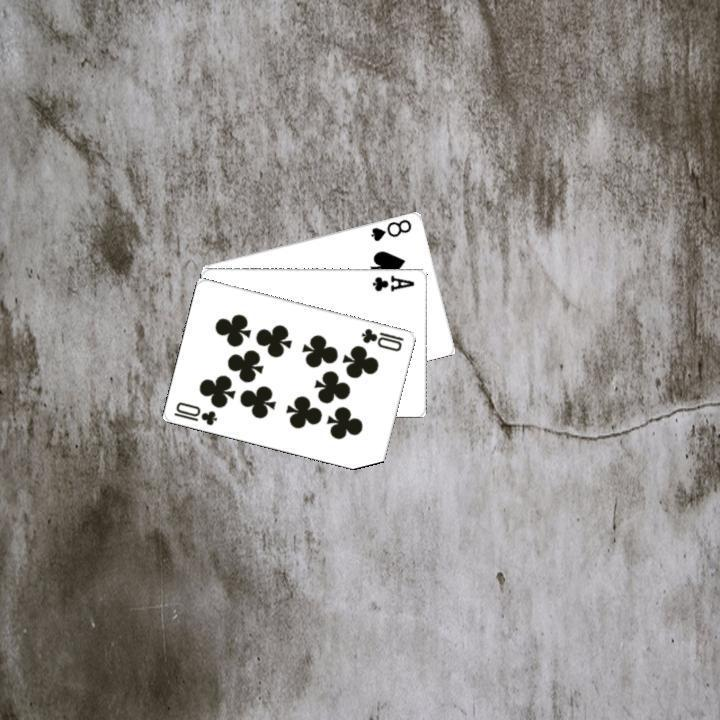10: (170, 397, 219, 427), (357, 324, 406, 353)
8: (366, 214, 414, 243)
A: (369, 271, 416, 293)
